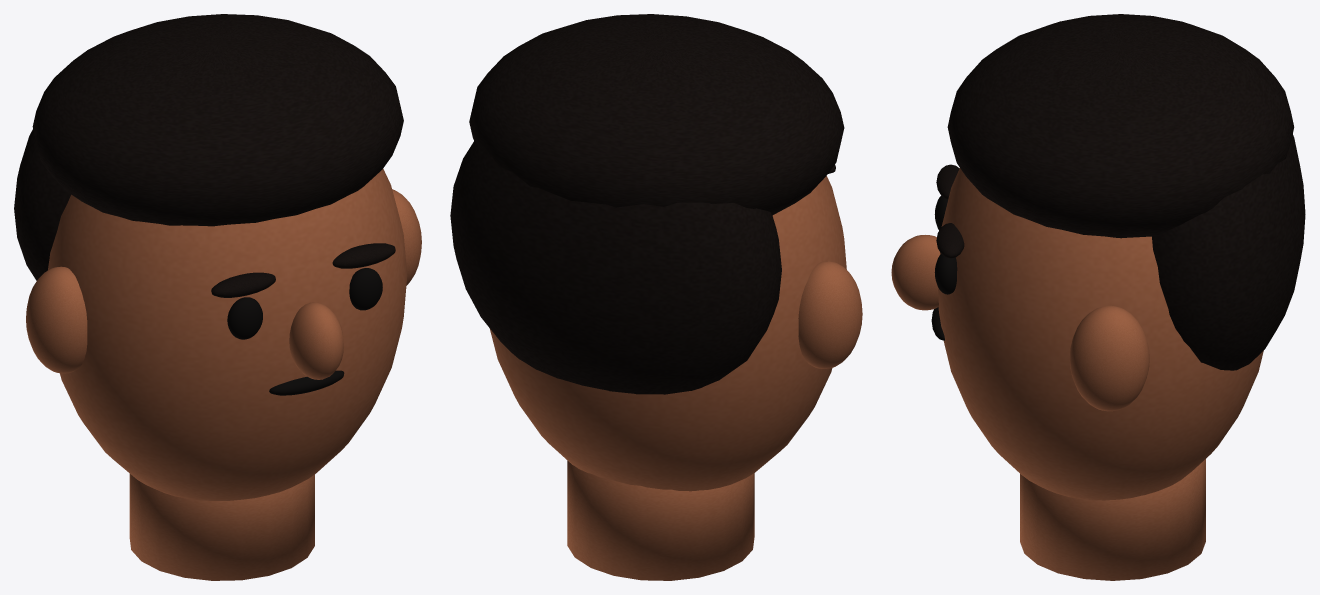
Rendered from jugador_azul_cabeza.obj.
3 renders of one model, left to right at view 1: azimuth 30°, elevation 25°; view 2: azimuth 150°, elevation 25°; view 3: azimuth 270°, elevation 25°, orthographic.
Visible parts, largest first — view 1: Jugador_Azul_Cabeza_Piel, Jugador_Azul_Cabeza_Cabello, Jugador_Azul_Cabeza_Ojos_y_Boca; view 2: Jugador_Azul_Cabeza_Cabello, Jugador_Azul_Cabeza_Piel; view 3: Jugador_Azul_Cabeza_Cabello, Jugador_Azul_Cabeza_Piel, Jugador_Azul_Cabeza_Ojos_y_Boca.
Part boxes in pixels (<box>): Jugador_Azul_Cabeza_Piel: <box>26,169,421,580</box>; Jugador_Azul_Cabeza_Cabello: <box>14,14,403,297</box>; Jugador_Azul_Cabeza_Ojos_y_Boca: <box>227,268,382,395</box>; Jugador_Azul_Cabeza_Cabello: <box>450,14,844,394</box>; Jugador_Azul_Cabeza_Piel: <box>489,176,862,580</box>; Jugador_Azul_Cabeza_Cabello: <box>936,14,1305,370</box>; Jugador_Azul_Cabeza_Piel: <box>891,168,1263,580</box>; Jugador_Azul_Cabeza_Ojos_y_Boca: <box>931,196,957,340</box>.
Size of the model in its own units: 0.276 by 0.34 by 0.258.
